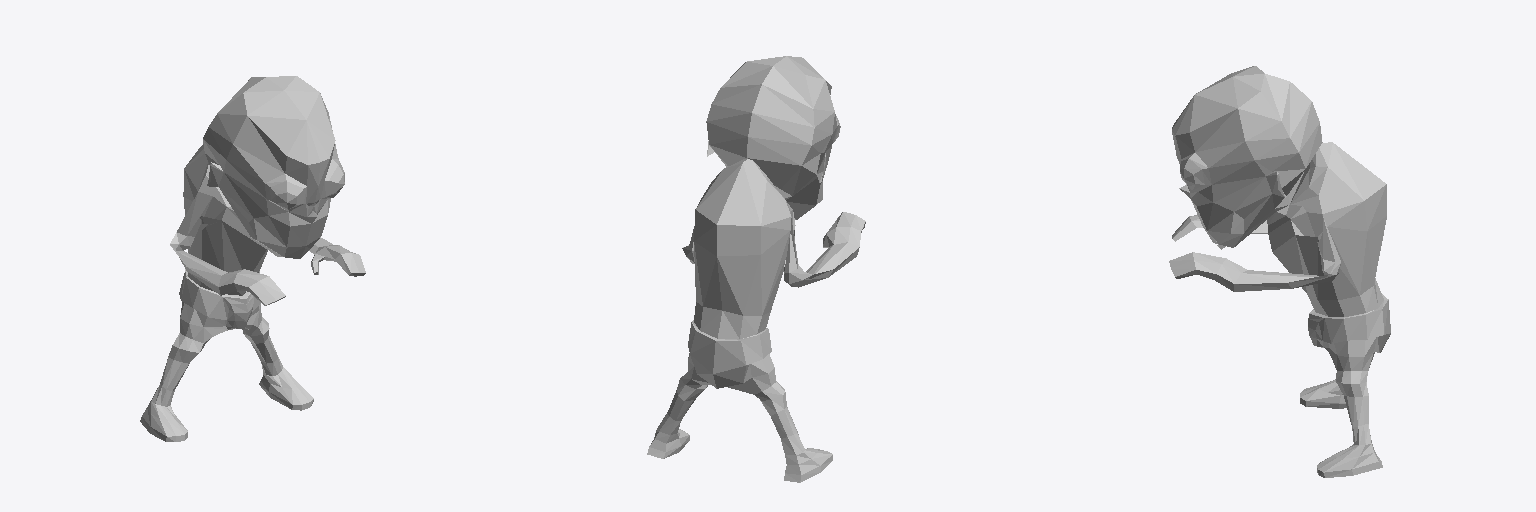
Rendered from GuardianNormal_000032.obj.
The picture shows the model from 3 angles: view 1: azimuth 30°, elevation 25°; view 2: azimuth 150°, elevation 25°; view 3: azimuth 270°, elevation 25°; orthographic projection.
Parts seen in each view (by area): view 1: untitled2:Mesh1.001; view 2: untitled2:Mesh1.001; view 3: untitled2:Mesh1.001.
Boxes of the visible parts, box(x1,y1,x2,y2) form: untitled2:Mesh1.001: box(140, 76, 365, 441); untitled2:Mesh1.001: box(647, 56, 865, 482); untitled2:Mesh1.001: box(1169, 66, 1390, 477).
Bounding box in the file's own units: 6.75 × 14.85 × 8.14.